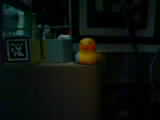duck: (74, 32, 101, 66)
